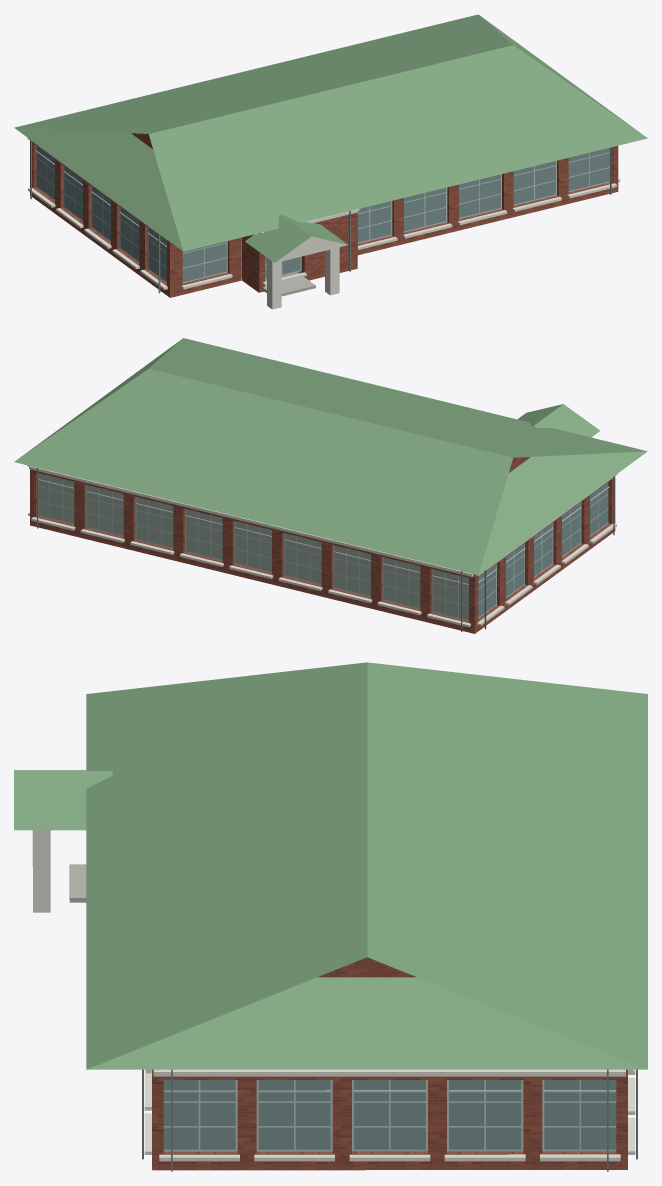
3 views of the same model, one above another, from view 1: azimuth 30°, elevation 25°; view 2: azimuth 150°, elevation 25°; view 3: azimuth 270°, elevation 25° (orthographic). The views are drawn at different scales.
Parts seen in each view (by area): view 1: smallhall__greenroof, smallhall__glass, smallhall__brick, smallhall__trim, smallhall__frame, smallhall__metal, smallhall__threshold-3-4; view 2: smallhall__greenroof, smallhall__sideglass, smallhall__brick, smallhall__frame, smallhall__trim, smallhall__glass, smallhall__metal; view 3: smallhall__greenroof, smallhall__glass, smallhall__brick, smallhall__trim, smallhall__frame, smallhall__metal.
Part boxes in pixels (left/top/right/bottom): smallhall__greenroof: left=14, top=14, right=647, bottom=262; smallhall__glass: left=36, top=146, right=609, bottom=281; smallhall__brick: left=30, top=133, right=618, bottom=297; smallhall__trim: left=27, top=138, right=620, bottom=309; smallhall__frame: left=35, top=150, right=609, bottom=283; smallhall__metal: left=30, top=140, right=611, bottom=293; smallhall__threshold-3-4: left=262, top=273, right=315, bottom=296; smallhall__greenroof: left=14, top=338, right=647, bottom=575; smallhall__sideglass: left=38, top=473, right=468, bottom=619; smallhall__brick: left=30, top=457, right=615, bottom=633; smallhall__frame: left=38, top=476, right=609, bottom=620; smallhall__trim: left=27, top=465, right=617, bottom=627; smallhall__glass: left=478, top=482, right=608, bottom=617; smallhall__metal: left=37, top=467, right=614, bottom=631; smallhall__greenroof: left=14, top=662, right=647, bottom=1069; smallhall__glass: left=163, top=1080, right=616, bottom=1149; smallhall__brick: left=152, top=957, right=627, bottom=1170; smallhall__trim: left=32, top=830, right=635, bottom=1161; smallhall__frame: left=163, top=1080, right=616, bottom=1151; smallhall__metal: left=142, top=1069, right=637, bottom=1171.
Size of the model in its own units: 28.84 by 6.46 by 20.57.
10 materials, 1 textured.
